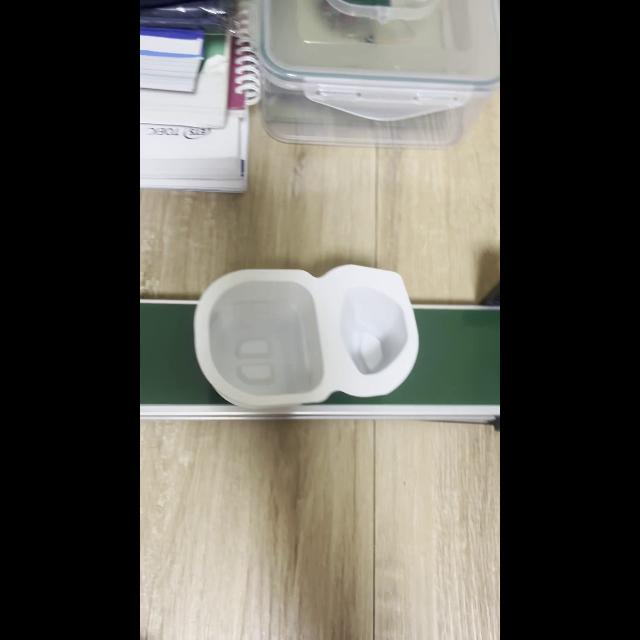clean: (196, 264, 420, 408)
